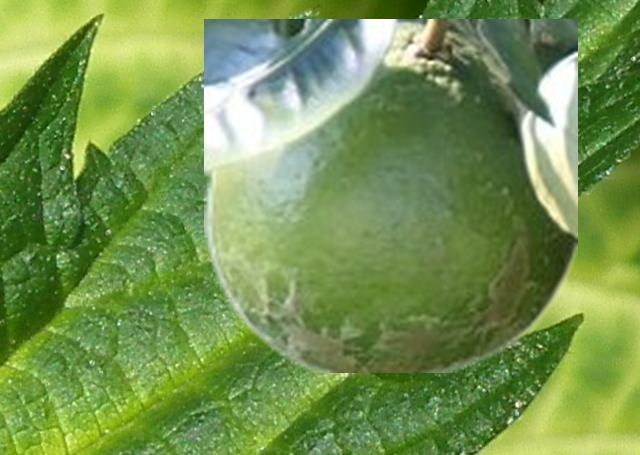dalandan: (204, 19, 576, 371)
